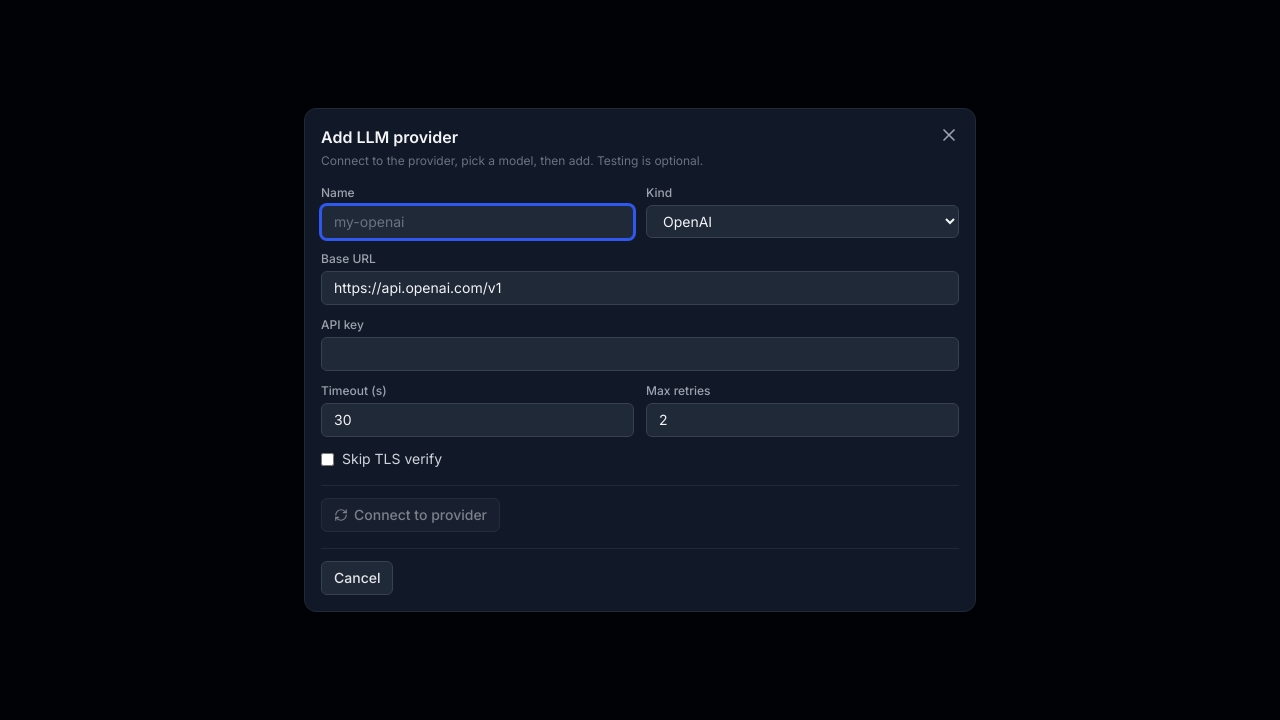
Test case: AddProviderWizard (027) › disables "Connect to provider" when name collides with existing
Type "sk-test" into the password field labelled "API key" at (640, 354), box [321,337,959,371]
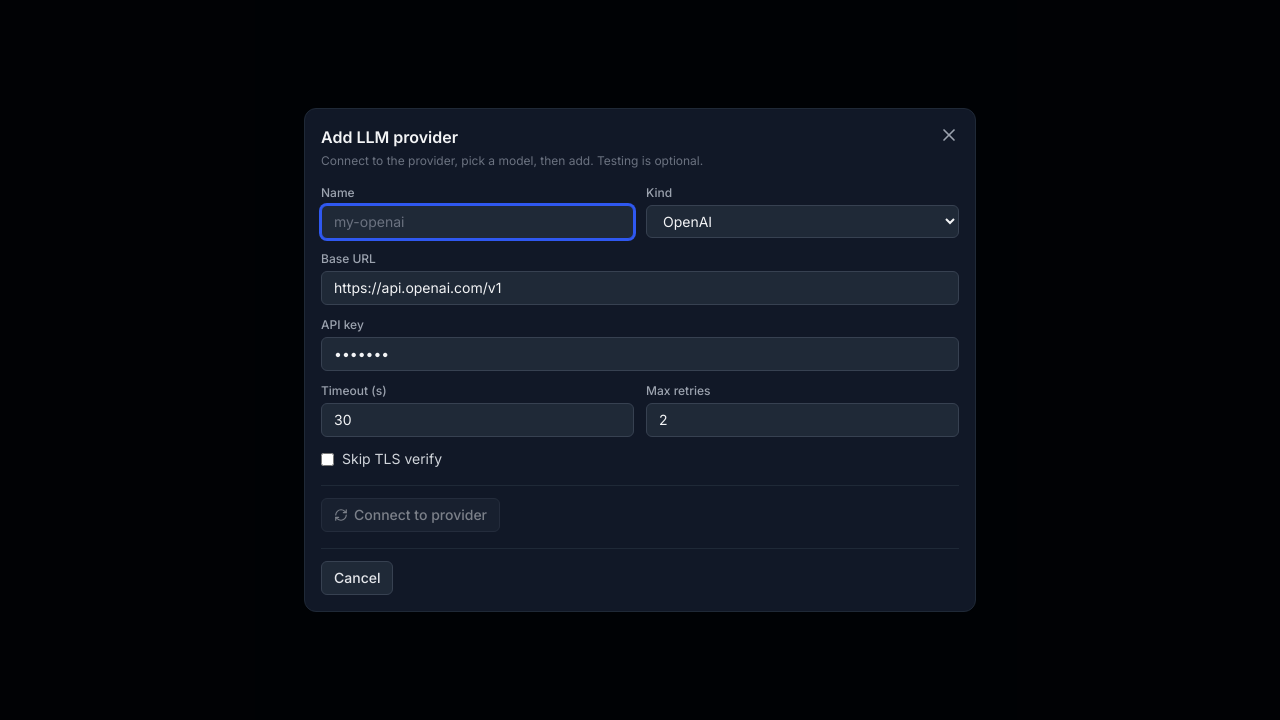
Type "taken" into the field labelled "Name" at (478, 222), box [321,205,634,239]
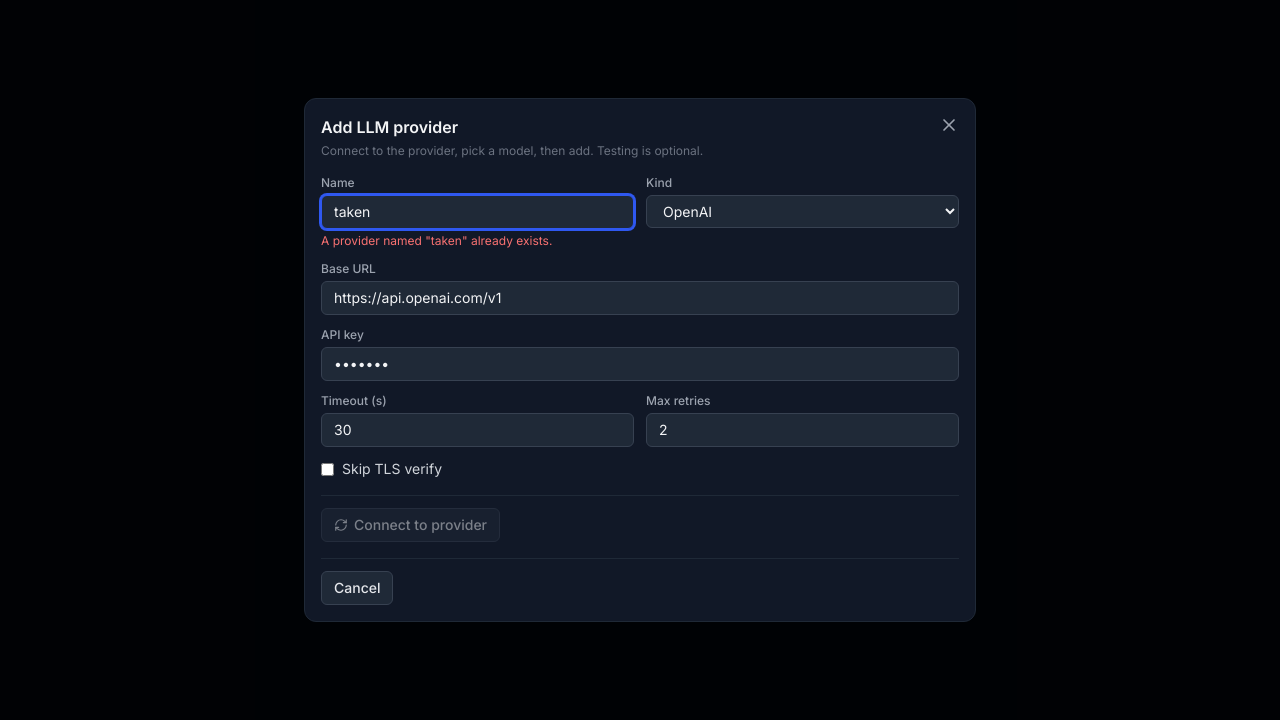
Expected: the button "Connect to provider" is disabled, [321,508,500,542]
Result: the text "A provider named \"taken\" already exists." is shown at [321,233,552,248]
